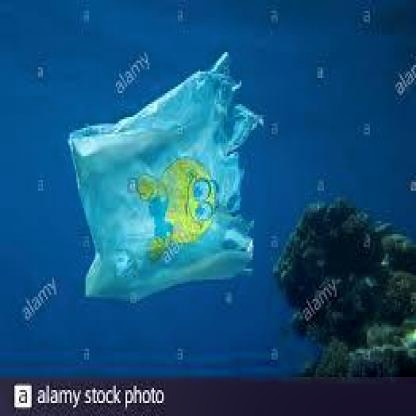pbag: (62, 47, 267, 306)
